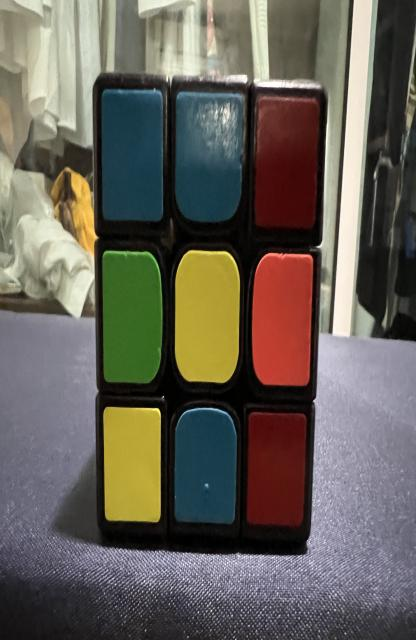Blue: (175, 90, 245, 223), (102, 88, 163, 222), (175, 407, 237, 525)
Green: (102, 250, 162, 383)
Orange: (252, 253, 313, 387)
Red: (254, 95, 319, 228), (246, 412, 306, 527)
Yellow: (175, 250, 240, 383), (103, 407, 161, 523)
